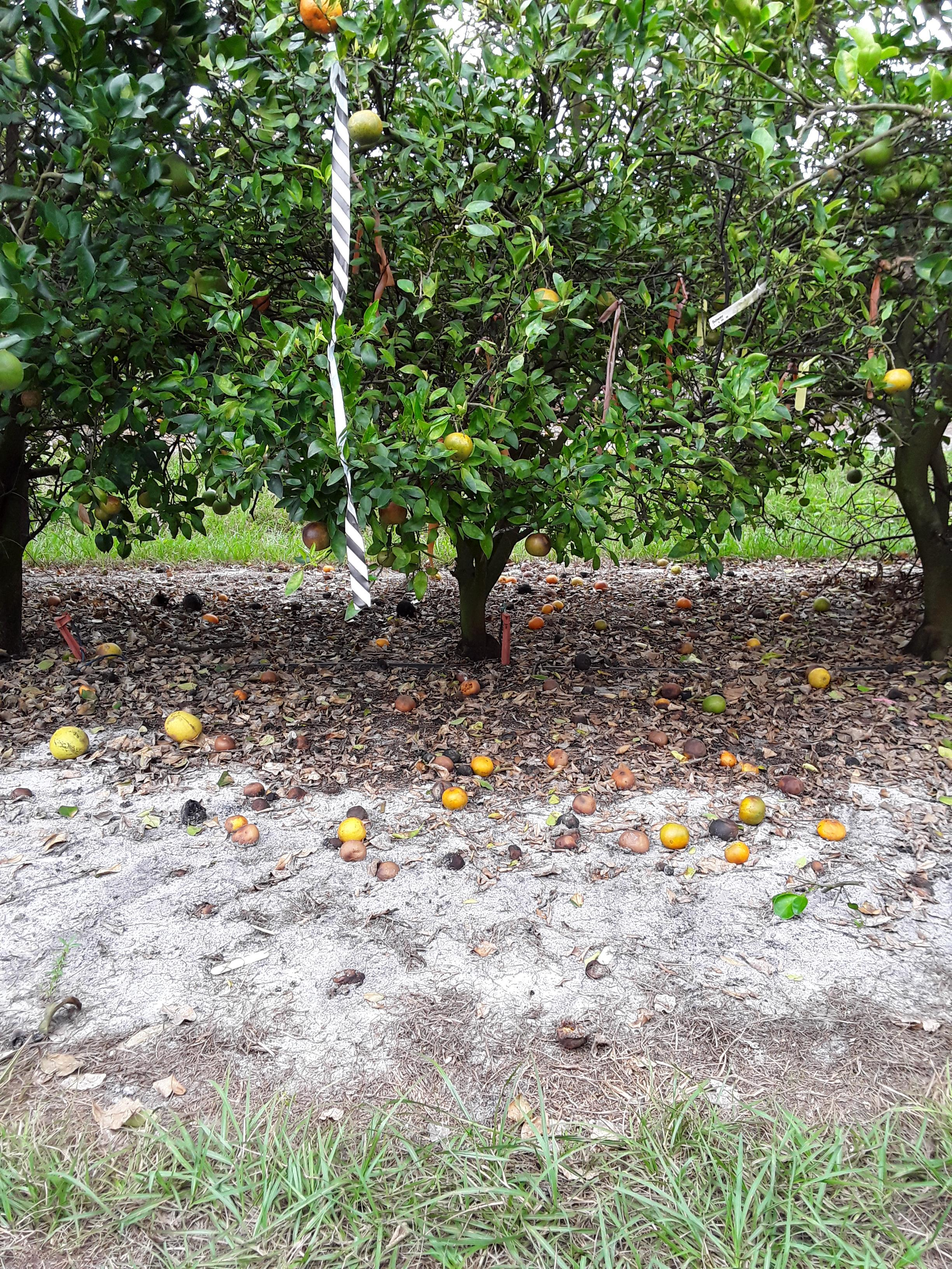fruit_on_ground: (153, 154, 198, 198), (296, 0, 345, 35), (345, 107, 385, 149), (856, 133, 896, 171), (526, 284, 563, 319), (0, 347, 28, 392), (438, 429, 475, 463), (880, 363, 915, 395), (299, 517, 331, 551), (871, 175, 903, 206), (591, 287, 621, 318), (378, 499, 409, 527), (523, 530, 552, 558), (899, 170, 928, 198), (15, 385, 44, 412), (100, 491, 127, 519), (247, 290, 274, 316), (135, 486, 158, 509), (91, 500, 112, 524), (710, 288, 731, 311), (375, 547, 397, 568), (199, 486, 220, 507), (210, 498, 232, 518), (843, 466, 864, 486), (214, 444, 235, 463), (819, 409, 839, 428), (702, 330, 723, 348)
fruit_on_tree: (46, 723, 90, 762), (163, 709, 203, 744), (660, 820, 691, 850), (616, 827, 649, 855), (738, 795, 767, 826), (336, 815, 368, 843), (609, 764, 638, 791), (706, 816, 737, 841), (816, 816, 847, 841), (441, 785, 470, 810), (806, 664, 832, 691), (570, 791, 598, 816), (723, 839, 751, 864), (339, 839, 369, 862), (700, 691, 728, 715), (777, 773, 806, 796), (469, 753, 495, 778), (93, 640, 123, 661), (376, 860, 402, 883), (545, 746, 570, 769), (235, 822, 261, 844), (440, 851, 465, 873), (430, 753, 455, 774), (554, 830, 578, 851), (394, 598, 418, 619), (223, 812, 247, 833), (682, 739, 707, 759), (181, 591, 204, 612), (458, 677, 481, 698), (658, 680, 683, 699), (647, 728, 670, 748), (393, 692, 416, 712), (283, 784, 308, 802), (75, 681, 97, 701), (809, 594, 831, 614), (213, 733, 236, 752), (738, 759, 761, 777), (9, 784, 33, 801), (242, 781, 266, 798), (571, 653, 593, 670), (718, 749, 738, 767), (248, 794, 269, 811), (149, 591, 170, 608), (344, 804, 367, 819), (257, 668, 278, 684), (294, 734, 312, 752), (372, 634, 392, 650), (506, 844, 523, 862), (750, 606, 770, 621), (541, 676, 559, 692), (885, 685, 903, 701), (677, 639, 695, 655), (672, 600, 691, 615), (527, 614, 544, 630), (745, 635, 763, 650), (515, 580, 533, 595), (675, 595, 693, 610), (200, 610, 219, 624), (653, 694, 671, 708), (232, 687, 248, 702), (894, 547, 910, 561), (593, 617, 609, 631), (45, 593, 61, 607), (777, 610, 794, 623), (591, 578, 608, 591), (796, 587, 812, 600), (668, 614, 684, 627), (668, 563, 683, 576), (544, 573, 559, 586), (570, 574, 584, 587), (541, 601, 555, 614), (320, 562, 335, 574), (654, 556, 669, 568), (216, 590, 230, 602), (551, 599, 565, 611)
